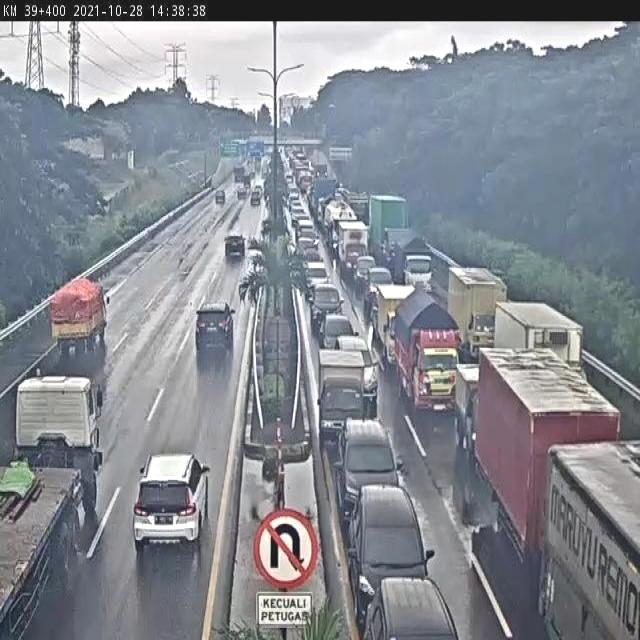Car: (348, 482, 436, 602), (130, 450, 211, 562), (337, 415, 402, 509), (365, 576, 457, 640), (334, 335, 379, 405), (193, 302, 234, 365), (309, 283, 344, 329), (366, 267, 395, 316), (317, 314, 353, 347), (303, 262, 329, 292), (355, 255, 375, 288), (299, 249, 324, 274), (224, 232, 244, 258), (296, 232, 319, 252), (215, 188, 226, 204)
Truck: (474, 346, 620, 556), (0, 374, 104, 640), (542, 443, 640, 640), (395, 286, 455, 418), (494, 296, 583, 364), (448, 264, 504, 358), (48, 273, 112, 354), (315, 351, 365, 447), (378, 285, 414, 363), (368, 192, 408, 254), (393, 232, 432, 292), (323, 199, 355, 252), (339, 221, 365, 278)
